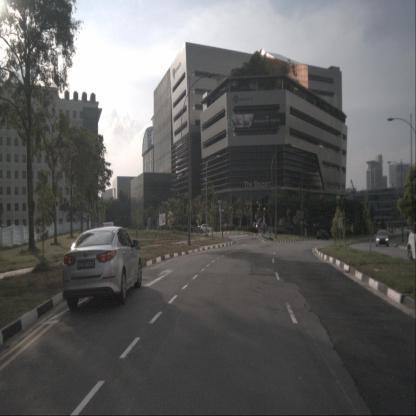vehicle-car: (62, 226, 142, 310), (407, 221, 416, 262), (376, 229, 390, 247), (200, 224, 214, 234), (317, 229, 329, 240)
